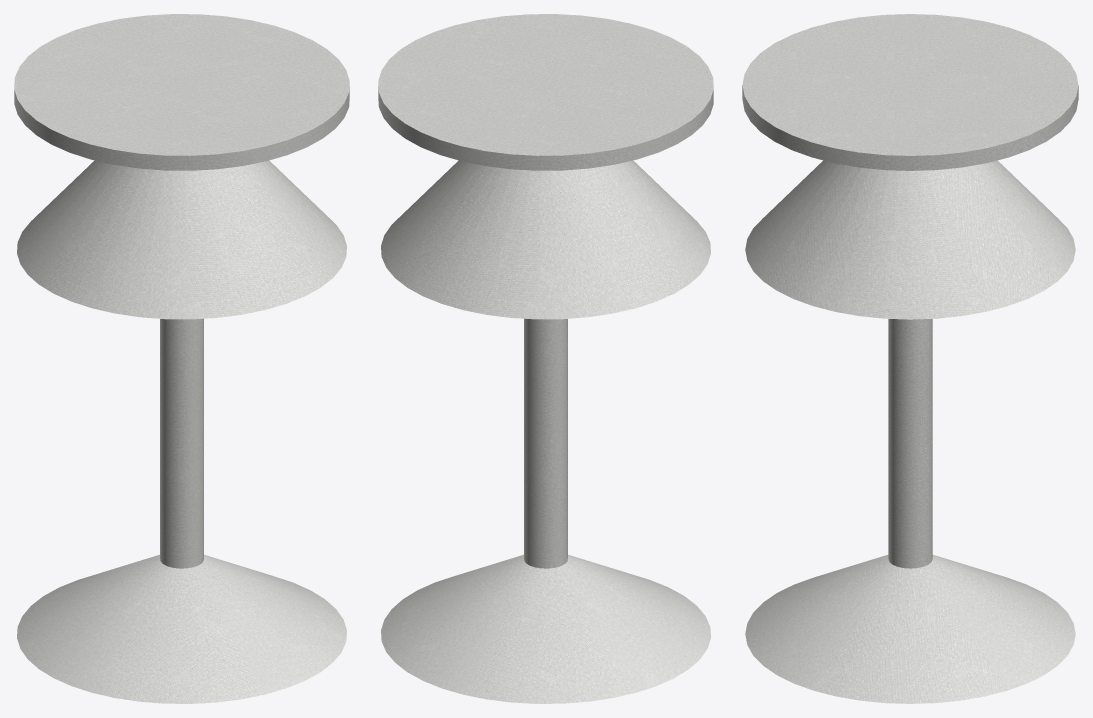
The model's file is table_cocktail.gltf.
3 renders of one model, left to right at view 1: azimuth 30°, elevation 25°; view 2: azimuth 150°, elevation 25°; view 3: azimuth 270°, elevation 25°, orthographic.
Parts seen in each view (by area): view 1: table_cocktail; view 2: table_cocktail; view 3: table_cocktail.
Part boxes in pixels (box(x1,y1,x2,y2)): table_cocktail: box(14, 14, 349, 703); table_cocktail: box(378, 14, 713, 703); table_cocktail: box(742, 14, 1078, 703).
Bounding box in the file's own units: 0.61 × 1.1 × 0.61.
Materials: 1 (1 with a texture image).
